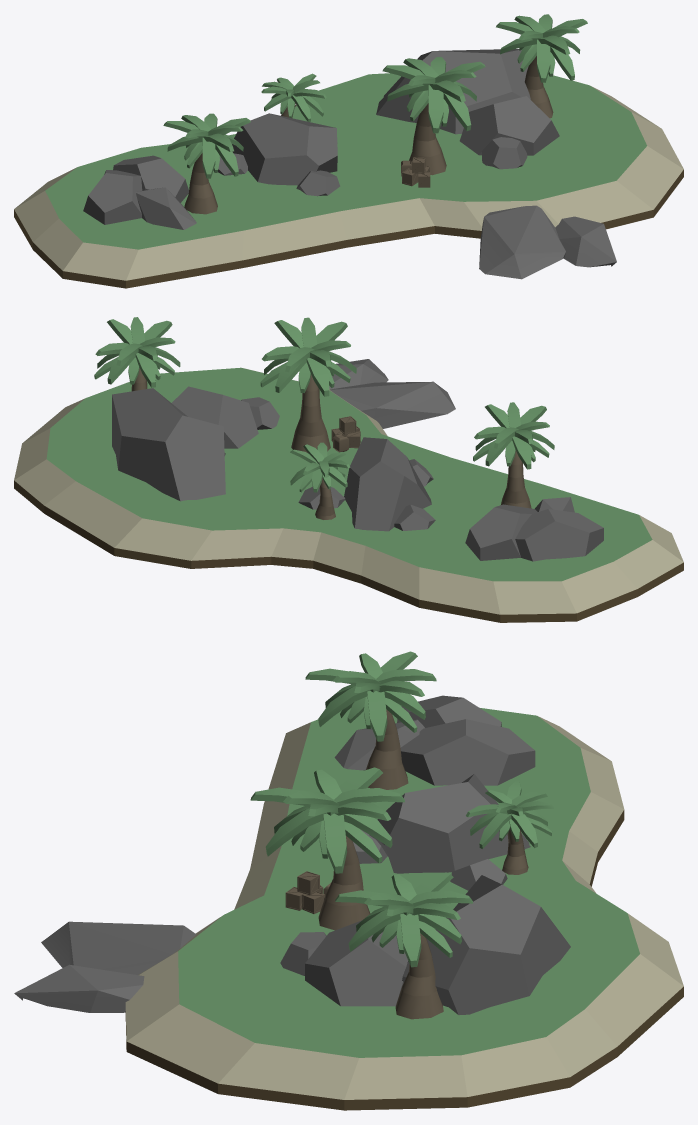
Rendered from Island2WithMaterialsNoAssets.fbx.
3 views of the same model, one above another, from view 1: azimuth 30°, elevation 25°; view 2: azimuth 150°, elevation 25°; view 3: azimuth 270°, elevation 25° (orthographic). The views are drawn at different scales.
Parts seen in each view (by area): view 1: pPlatonic53; view 2: pPlatonic53; view 3: pPlatonic53.
Part boxes in pixels (x1=…): pPlatonic53: x1=14, y1=14, x2=683, y2=288; pPlatonic53: x1=14, y1=317, x2=683, y2=622; pPlatonic53: x1=14, y1=651, x2=683, y2=1110.
Bounding box in the file's own units: 5.16 × 1.11 × 3.74.
